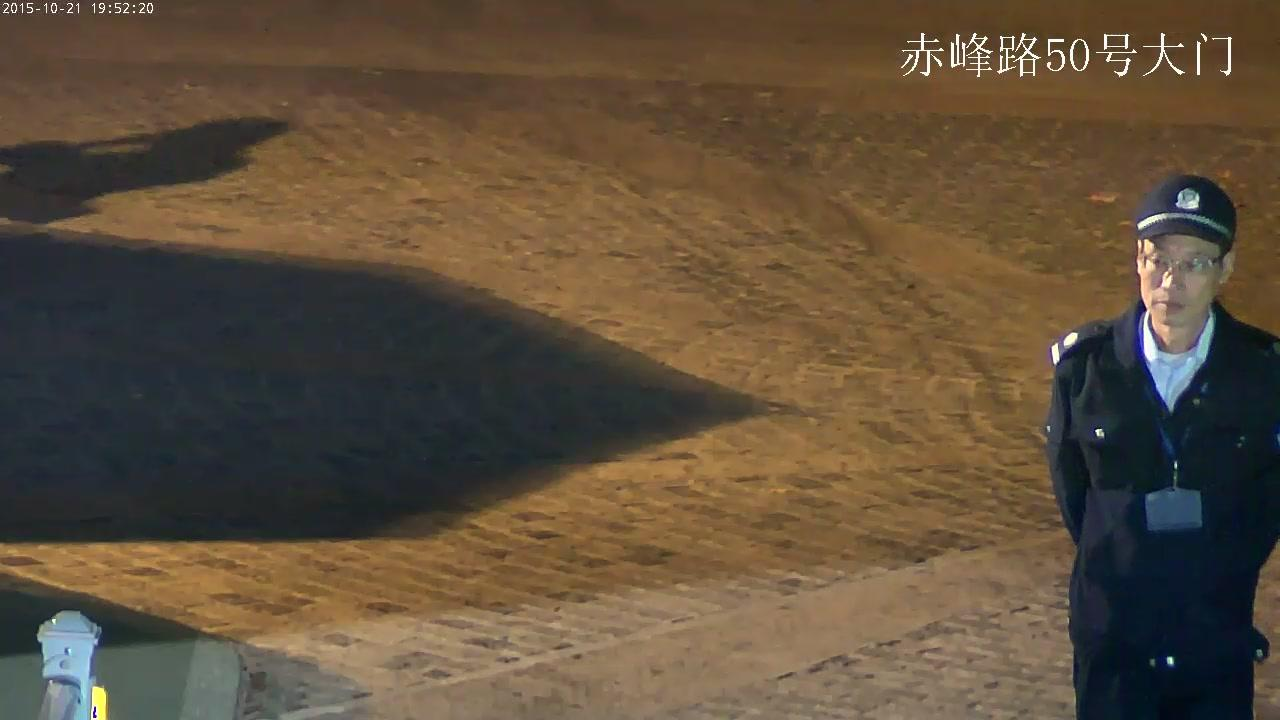person: (1044, 174, 1280, 719)
